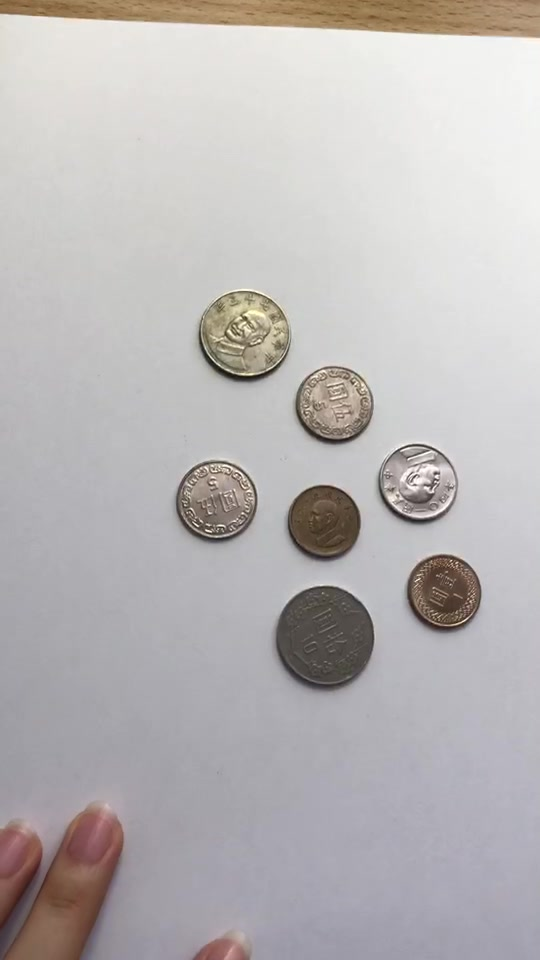1 dallar: (281, 476, 363, 562), (402, 547, 484, 633)
10 dallar: (270, 578, 380, 695), (185, 283, 293, 386)
5 dallar: (170, 455, 261, 546), (290, 357, 381, 448), (372, 433, 463, 524)
